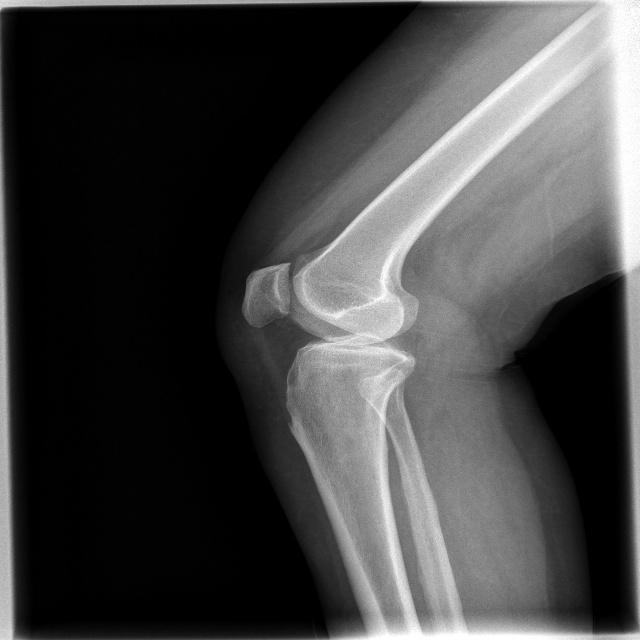Knee: (240, 252, 421, 410)
